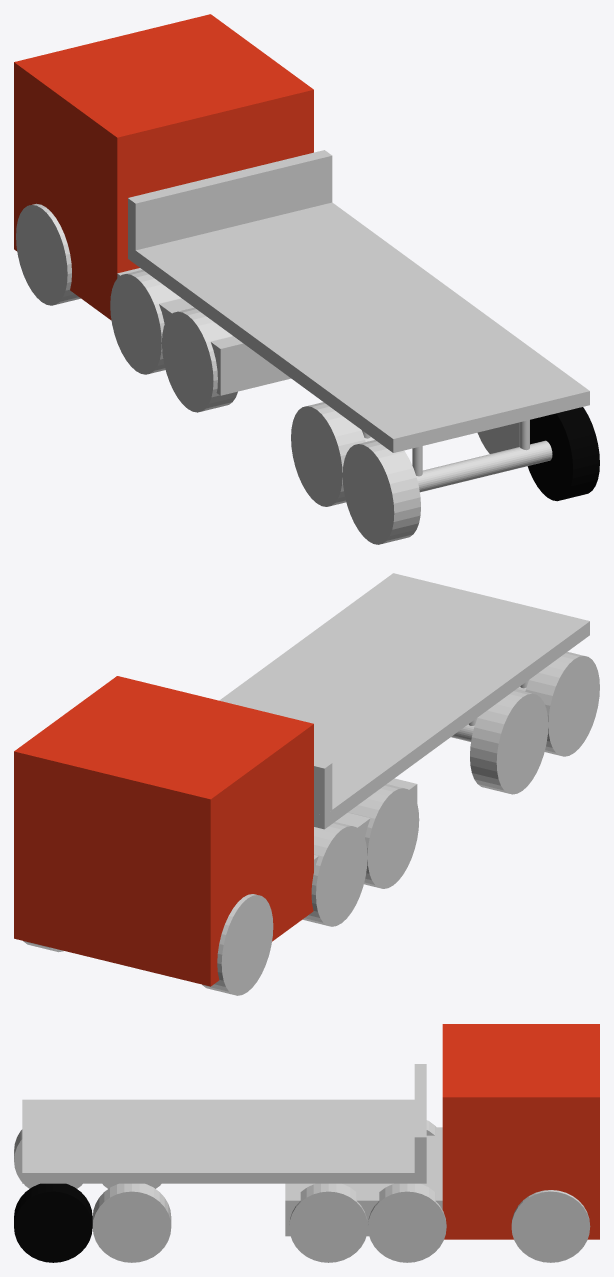
3 renders of one model, top to bottom at view 1: azimuth 30°, elevation 25°; view 2: azimuth 150°, elevation 25°; view 3: azimuth 270°, elevation 25°, orthographic. The views are drawn at different scales.
Parts seen in each view (by area): view 1: Cube.002, Cube, Cube.003, Cylinder.007, Cylinder.003, Cylinder.006, Cylinder.008, Cylinder.002, Cylinder.001, Cube.001, Cylinder.010, Cylinder.009; view 2: Cube, Cube.002, Cylinder.006, Cylinder.007, Cylinder.002, Cylinder.003, Cylinder.001, Cube.003, Cube.001; view 3: Cube.002, Cube, Cylinder.009, Cylinder.008, Cylinder.004, Cylinder.005, Cylinder, Cube.001, Cube.003, Cylinder.007.
Part boxes in pixels (<box>): Cube.002: <box>128,202,589,452</box>; Cube: <box>14,14,313,320</box>; Cube.003: <box>128,150,332,250</box>; Cylinder.007: <box>342,440,420,544</box>; Cylinder.003: <box>162,307,237,412</box>; Cylinder.006: <box>291,402,365,506</box>; Cylinder.008: <box>527,407,599,501</box>; Cylinder.002: <box>110,269,181,374</box>; Cylinder.001: <box>16,203,80,305</box>; Cube.001: <box>117,268,290,395</box>; Cylinder.010: <box>416,440,552,492</box>; Cylinder.009: <box>477,422,519,453</box>; Cube: <box>14,676,313,986</box>; Cube.002: <box>219,573,589,829</box>; Cylinder.006: <box>470,689,548,794</box>; Cylinder.007: <box>525,652,599,756</box>; Cylinder.002: <box>302,822,367,926</box>; Cylinder.003: <box>348,784,419,888</box>; Cylinder.001: <box>202,894,273,995</box>; Cube.003: <box>314,758,332,815</box>; Cube.001: <box>314,778,417,871</box>; Cube.002: <box>22,1099,426,1183</box>; Cube: <box>442,1024,599,1239</box>; Cylinder.009: <box>92,1183,171,1262</box>; Cylinder.008: <box>14,1183,92,1262</box>; Cylinder.004: <box>368,1183,446,1262</box>; Cylinder.005: <box>289,1183,367,1262</box>; Cylinder: <box>511,1190,590,1262</box>; Cube.001: <box>285,1127,442,1236</box>; Cube.003: <box>414,1064,426,1172</box>; Cylinder.007: <box>14,1129,82,1188</box>.
Bounding box in the file's own units: 2.66 × 2.66 × 8.61.
